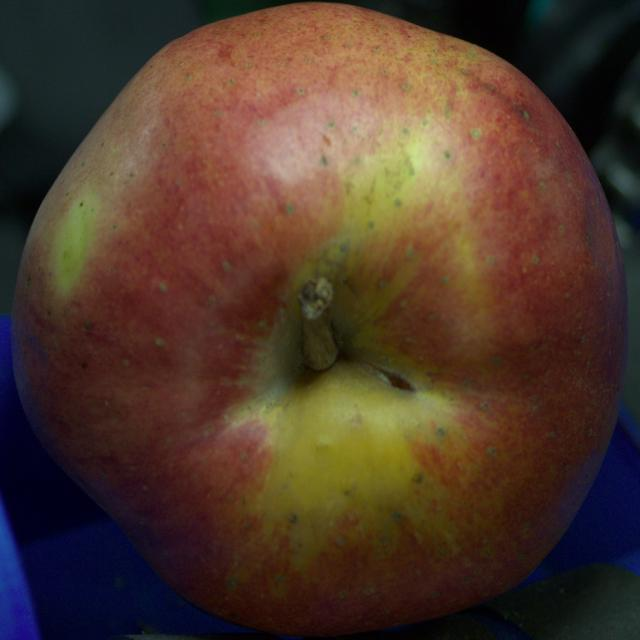apple: (12, 3, 627, 635)
bruise: (582, 189, 618, 279)
pest: (518, 108, 528, 121)
scratch: (374, 368, 414, 390)
